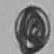correct: (12, 3, 51, 54)
